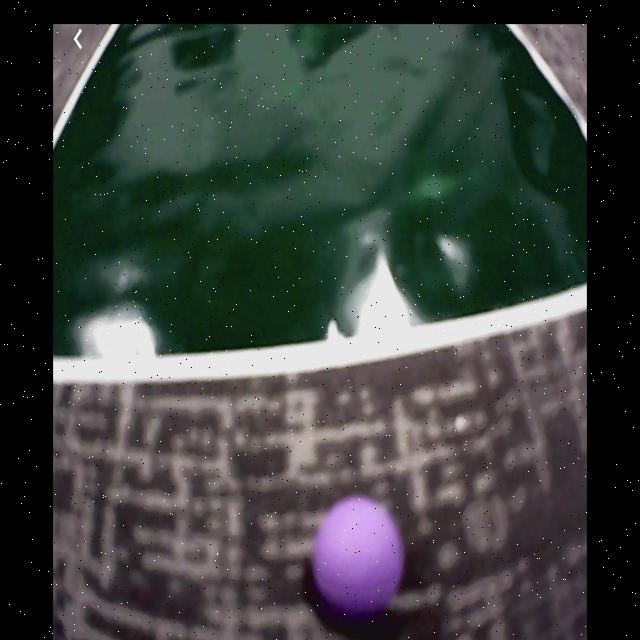ball: (311, 494, 407, 618)
